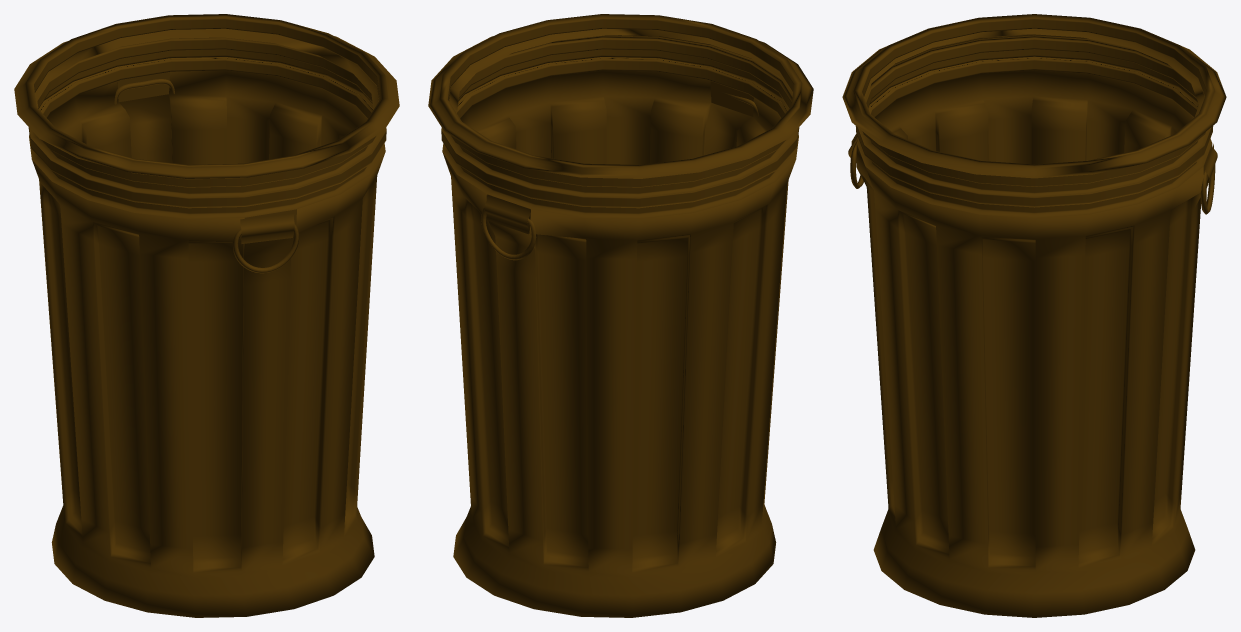
File: brownrash.fbx
The picture shows the model from 3 angles, left to right: view 1: azimuth 30°, elevation 25°; view 2: azimuth 150°, elevation 25°; view 3: azimuth 270°, elevation 25°; orthographic projection.
Parts seen in each view (by area): view 1: Cylinder; view 2: Cylinder; view 3: Cylinder.
Boxes of the visible parts, x1,y1,x2,y2 form: Cylinder: [14, 14, 399, 617]; Cylinder: [428, 14, 813, 617]; Cylinder: [842, 14, 1226, 617].
Bounding box in the file's own units: 212 × 278 × 212.
